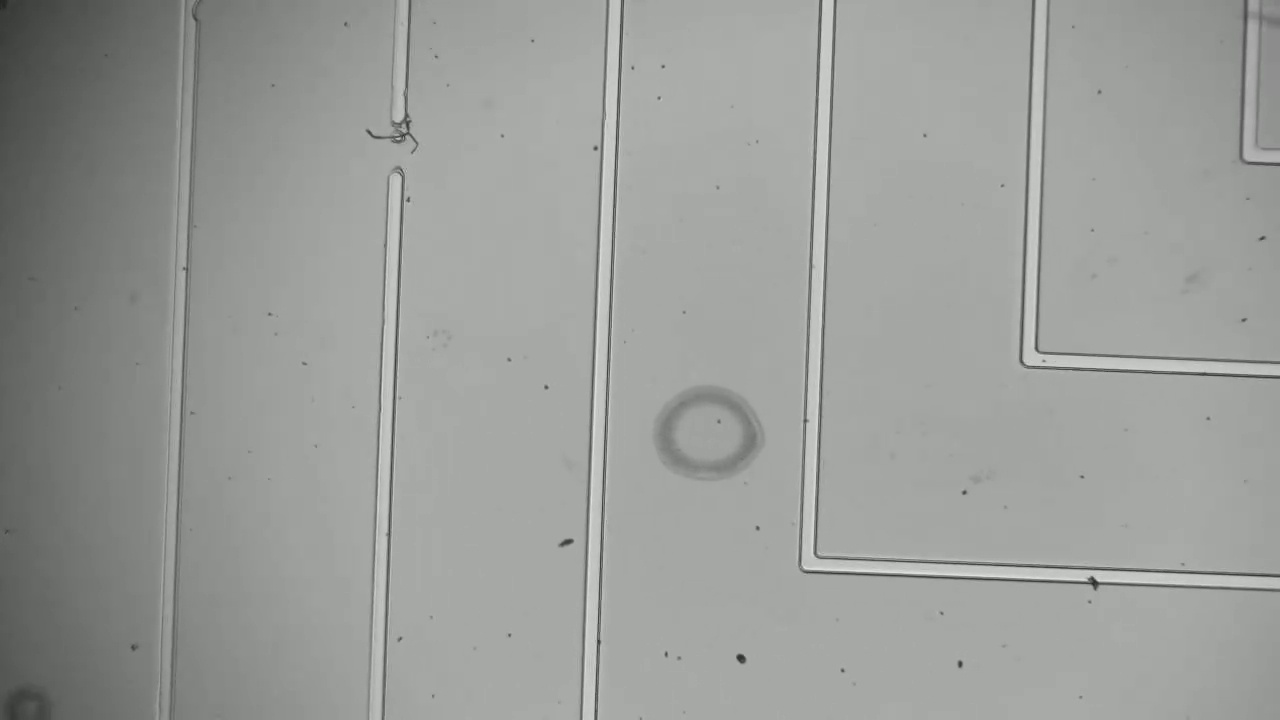edge_bite: (172, 2, 209, 29)
open: (377, 102, 415, 192)
stains_enbedded: (1079, 560, 1108, 595)
